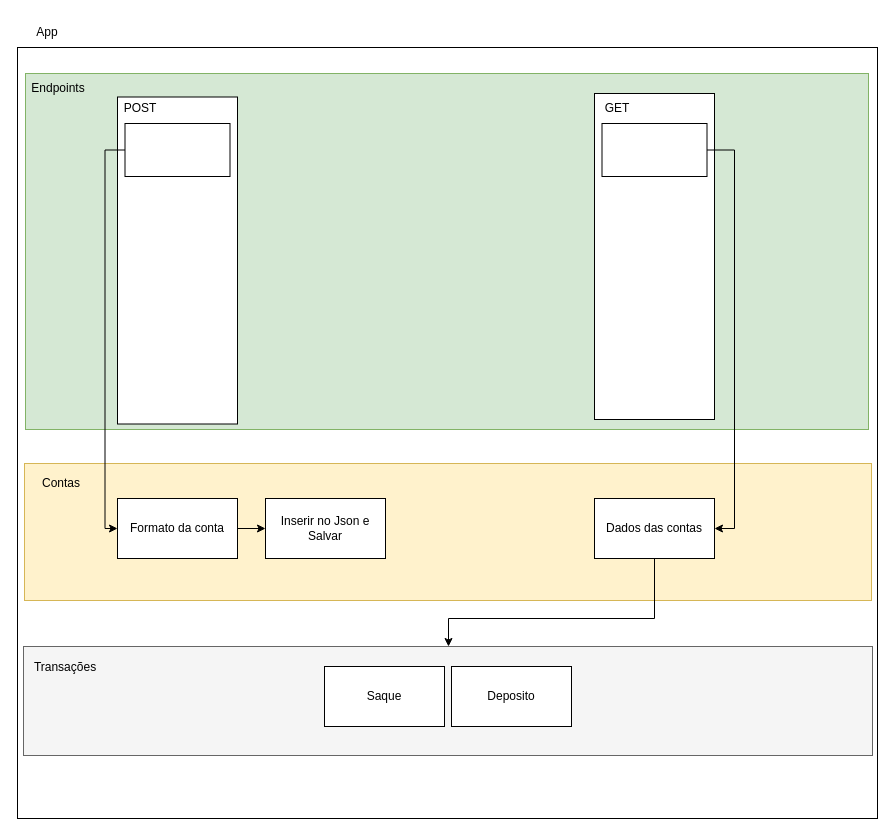
This 895x836 diagram has some shape labels left out. The shapes that lost their labels are listed below. From the top down, each one's centre as x and y in pixels, then its label:
At pixel 177 149: "Dados Nova Conta".
At pixel 654 149: "Pegar dados existentes de um usuario".
